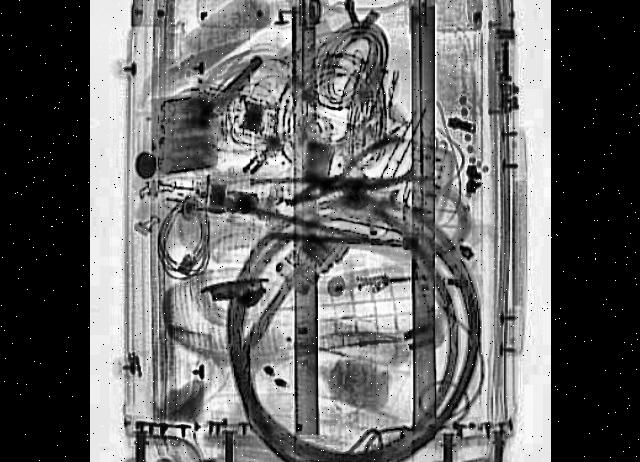Pliers: (284, 123, 416, 228)
